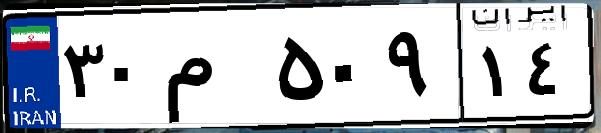0: (330, 28, 385, 110), (110, 28, 158, 98)
1: (475, 38, 525, 113)
3: (57, 26, 110, 100)
4: (525, 38, 570, 115)
5: (270, 28, 330, 110)
9: (385, 28, 445, 110)
م: (158, 20, 270, 120)
